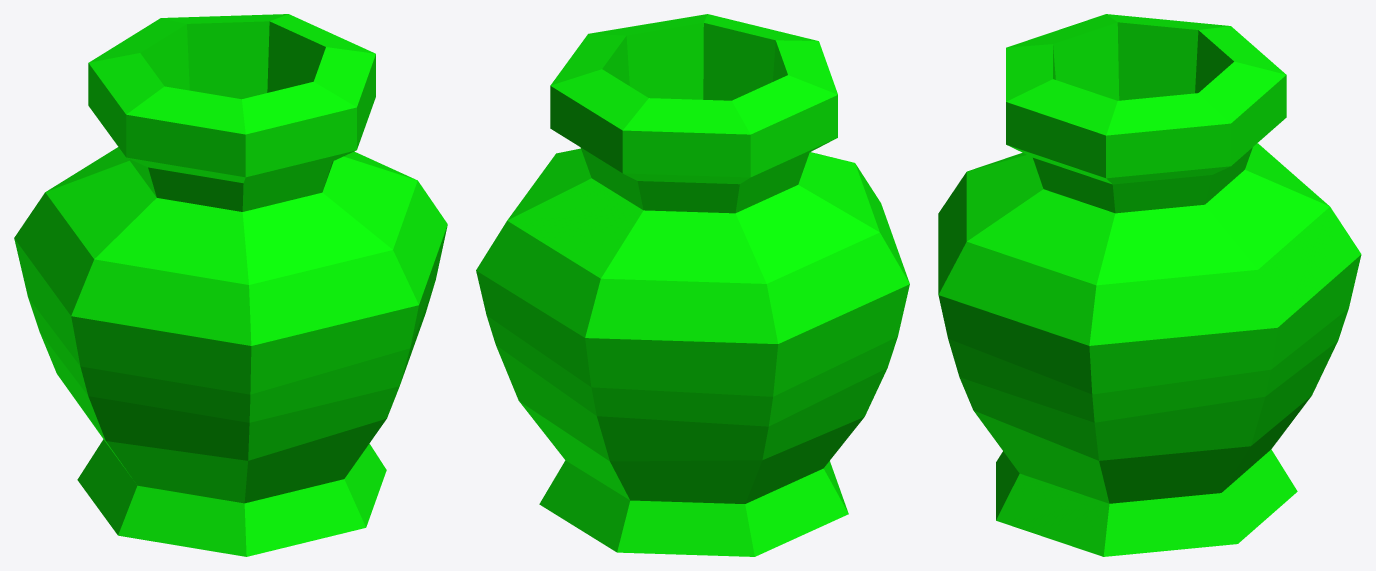
Rendered from SM_Vase_Ceramic_Small_A_Fantasy.fbx.
The picture shows the model from 3 angles, left to right: view 1: azimuth 30°, elevation 25°; view 2: azimuth 150°, elevation 25°; view 3: azimuth 270°, elevation 25°; orthographic projection.
Visible parts, largest first — view 1: vase-ceramic-small-a-fantasy; view 2: vase-ceramic-small-a-fantasy; view 3: vase-ceramic-small-a-fantasy.
Boxes of the visible parts, bbox=[...] form: vase-ceramic-small-a-fantasy: bbox=[14, 14, 447, 556]; vase-ceramic-small-a-fantasy: bbox=[476, 14, 909, 556]; vase-ceramic-small-a-fantasy: bbox=[938, 14, 1361, 556].
Size of the model in its own units: 0.2795 by 0.3056 by 0.2725.
